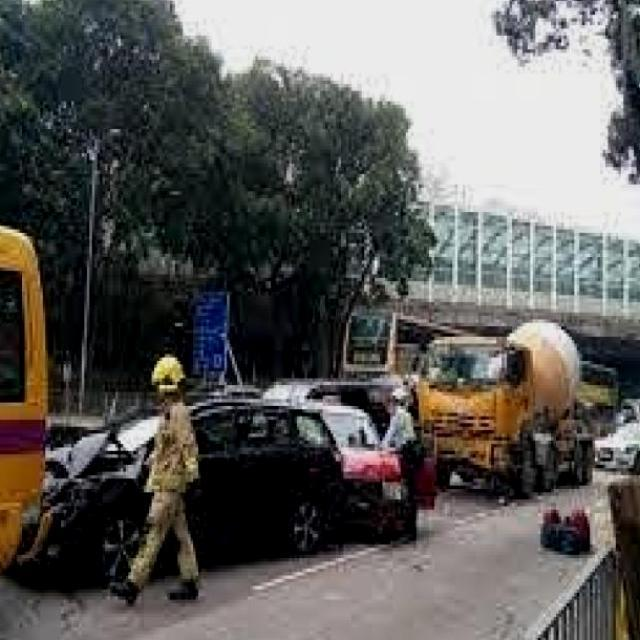accident: (24, 376, 180, 607), (280, 406, 423, 549)
